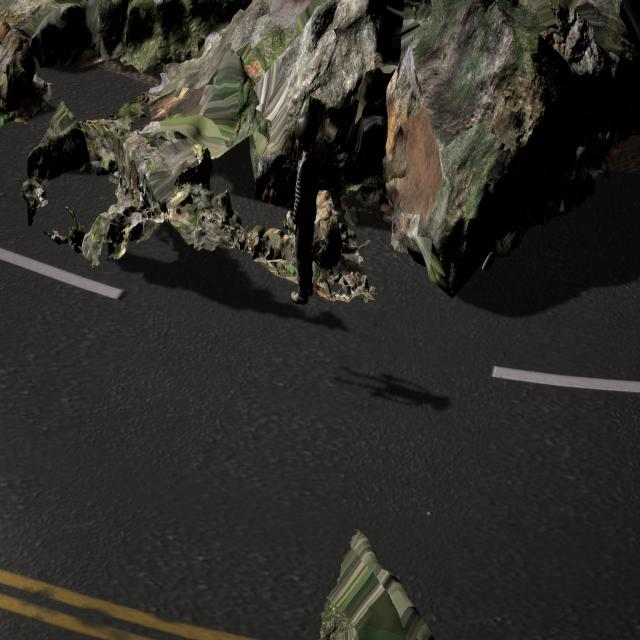Human: (284, 101, 321, 318)
